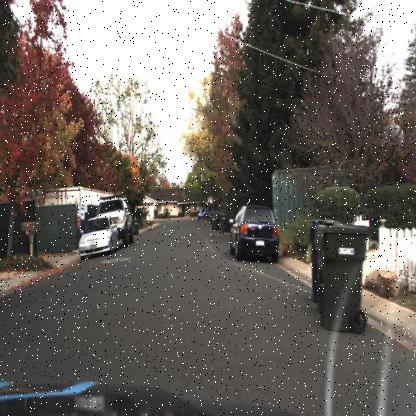car: (228, 200, 286, 266), (73, 210, 123, 265), (96, 192, 133, 244), (115, 196, 133, 244), (198, 208, 210, 219)
